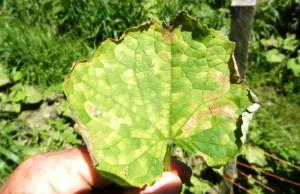Tomato leaf late blight: (52, 8, 268, 192)
